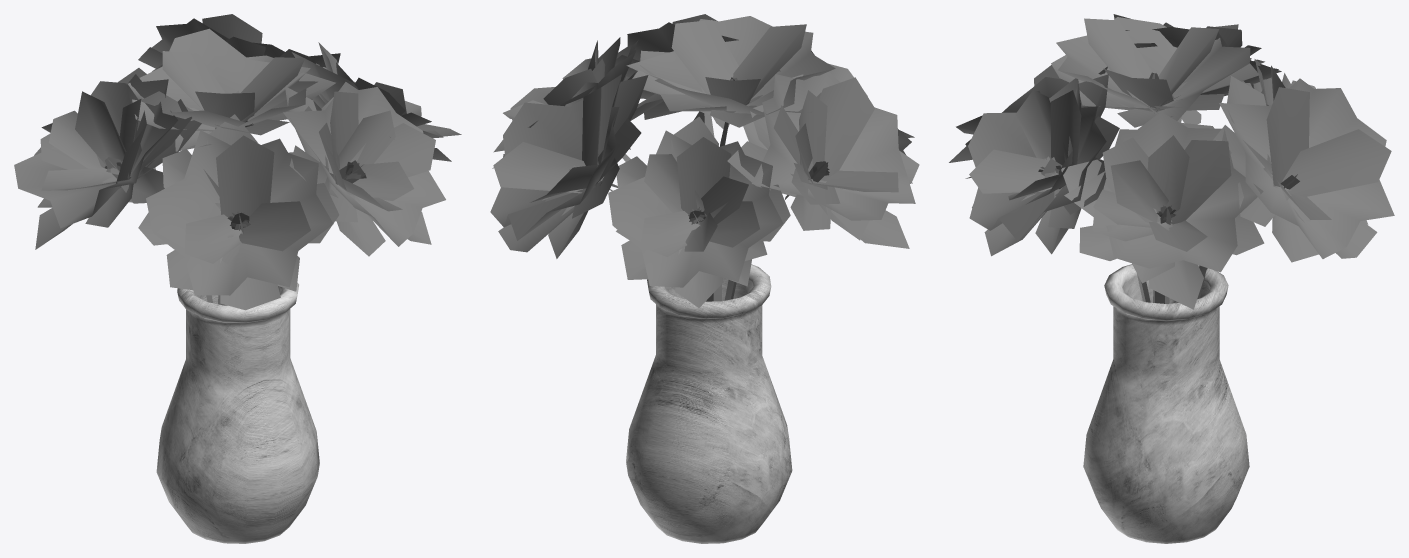
File: magnolia.fbx
3 renders of one model, left to right at view 1: azimuth 30°, elevation 25°; view 2: azimuth 150°, elevation 25°; view 3: azimuth 270°, elevation 25°, orthographic.
Visible parts, largest first — view 1: flowers_magnolia_003; view 2: flowers_magnolia_003; view 3: flowers_magnolia_003.
Part boxes in pixels (x1,y1,x2,y2): flowers_magnolia_003: (14, 14, 461, 543); flowers_magnolia_003: (490, 14, 919, 543); flowers_magnolia_003: (949, 14, 1394, 543).
Bounding box in the file's own units: 533 × 595 × 506.
